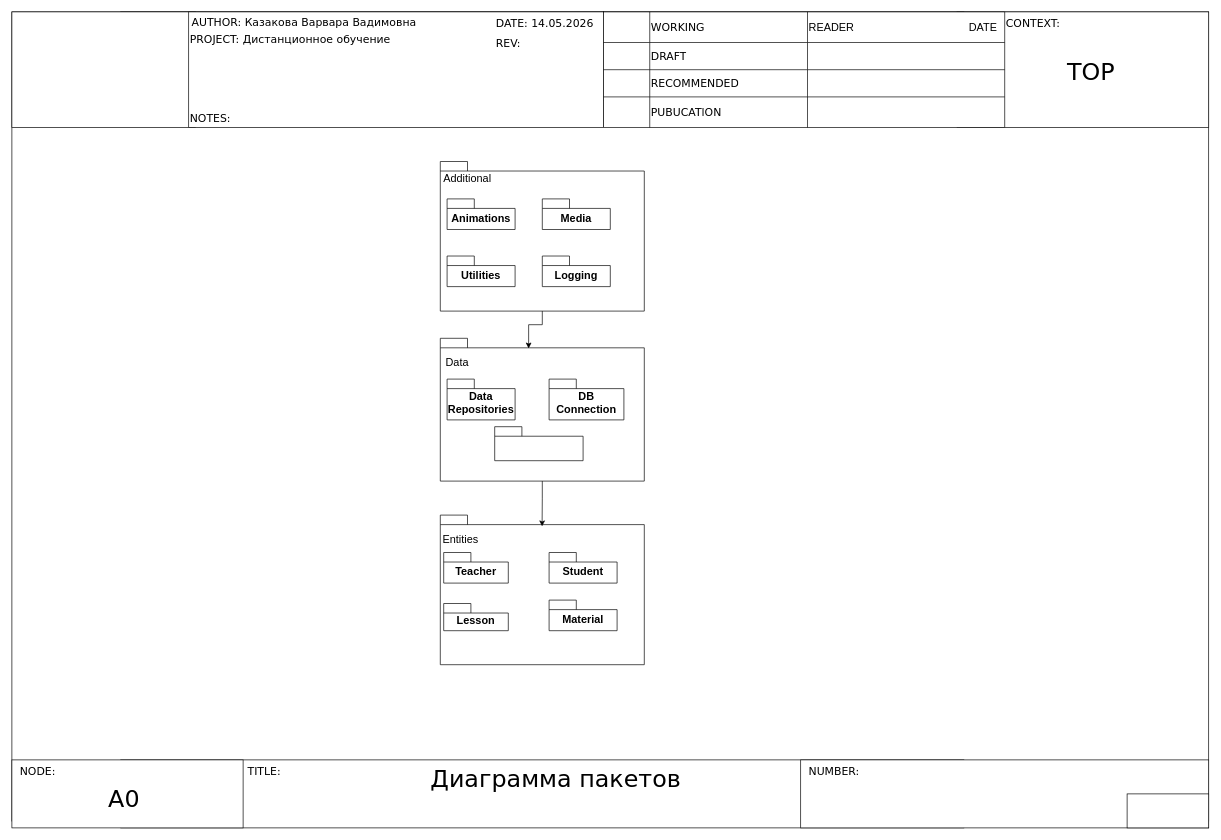
Image size: 1221x840. Some labels were removed from this diagram. Here are the shapes that lost their labels. From the top down, the centre of each, then its label:
At (103,69): "USET AT:".
At (538,443): "DB Entities".
